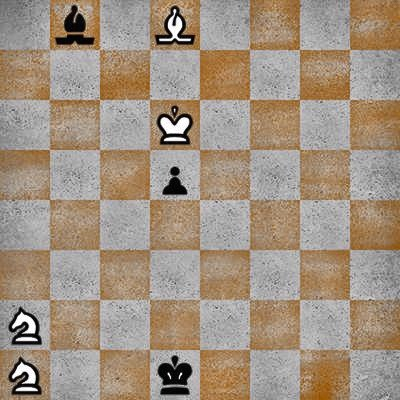black-bishop: (50, 0, 100, 50)
black-king: (150, 350, 200, 400)
black-pawn: (150, 150, 200, 200)
white-bishop: (150, 0, 200, 50)
white-king: (150, 100, 200, 150)
white-knight: (0, 300, 50, 350), (0, 350, 50, 400)
